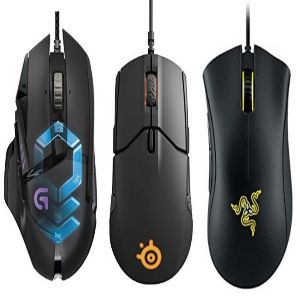mouse: (1, 25, 100, 282), (201, 29, 294, 289), (111, 28, 195, 287)
